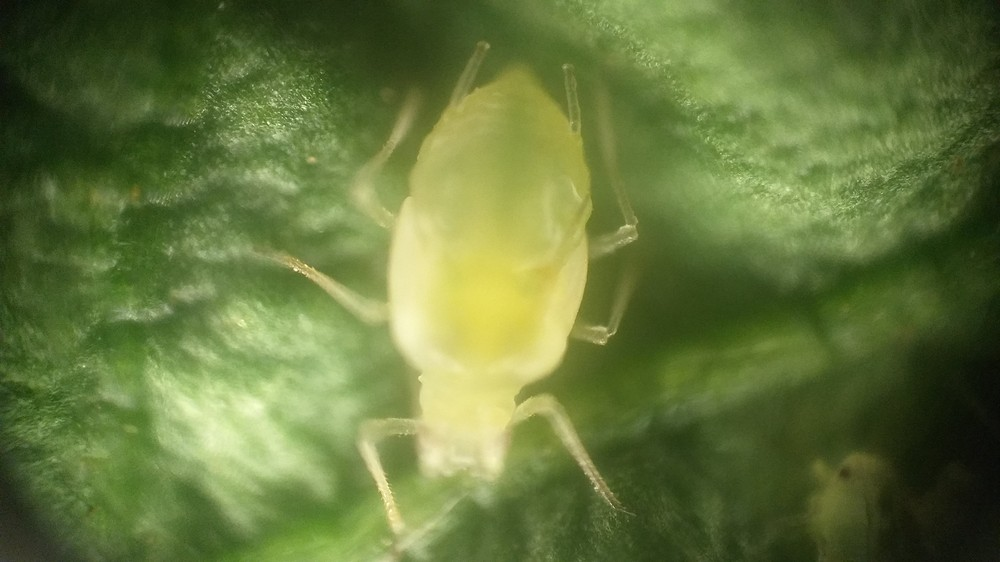Pulgon: (286, 28, 681, 547)
